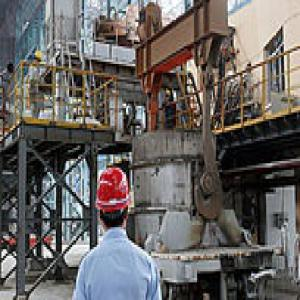red: (94, 164, 135, 237)
